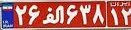character: (41, 3, 66, 26), (27, 2, 41, 28), (78, 2, 93, 26), (65, 3, 79, 28), (92, 2, 106, 27), (14, 4, 28, 27), (119, 6, 131, 26), (109, 6, 120, 26)
